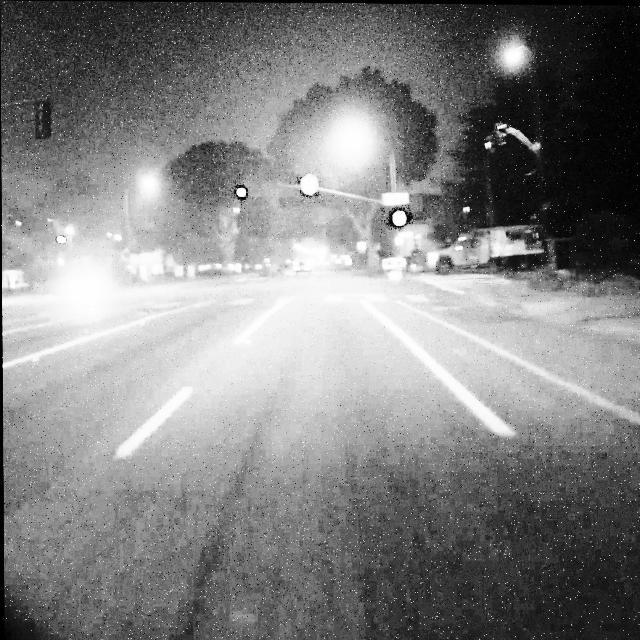Truck: (428, 223, 546, 276)
